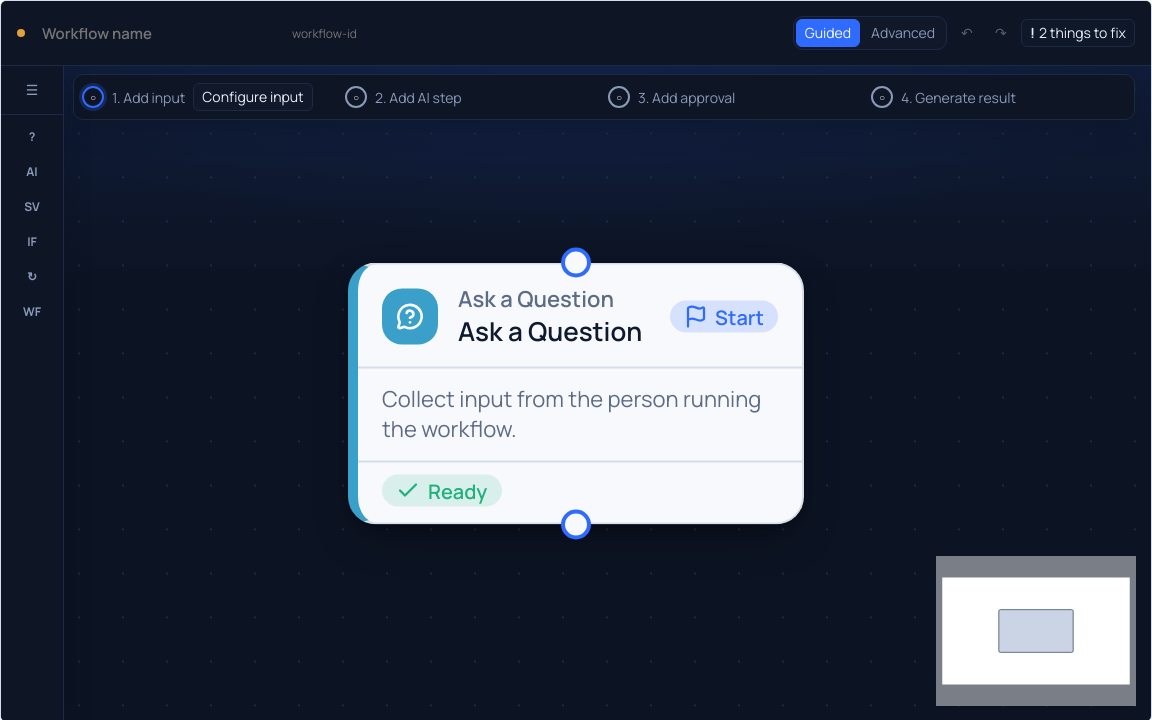
Scenario: ValidationPill popover occlusion fix › does not steal focus back to the toggle button when an outside click already moved it elsewhere
This screenshot has width=1152, height=720.
Click the button with class "wf-validation-pill": (1078, 33) [1021,19,1135,47]
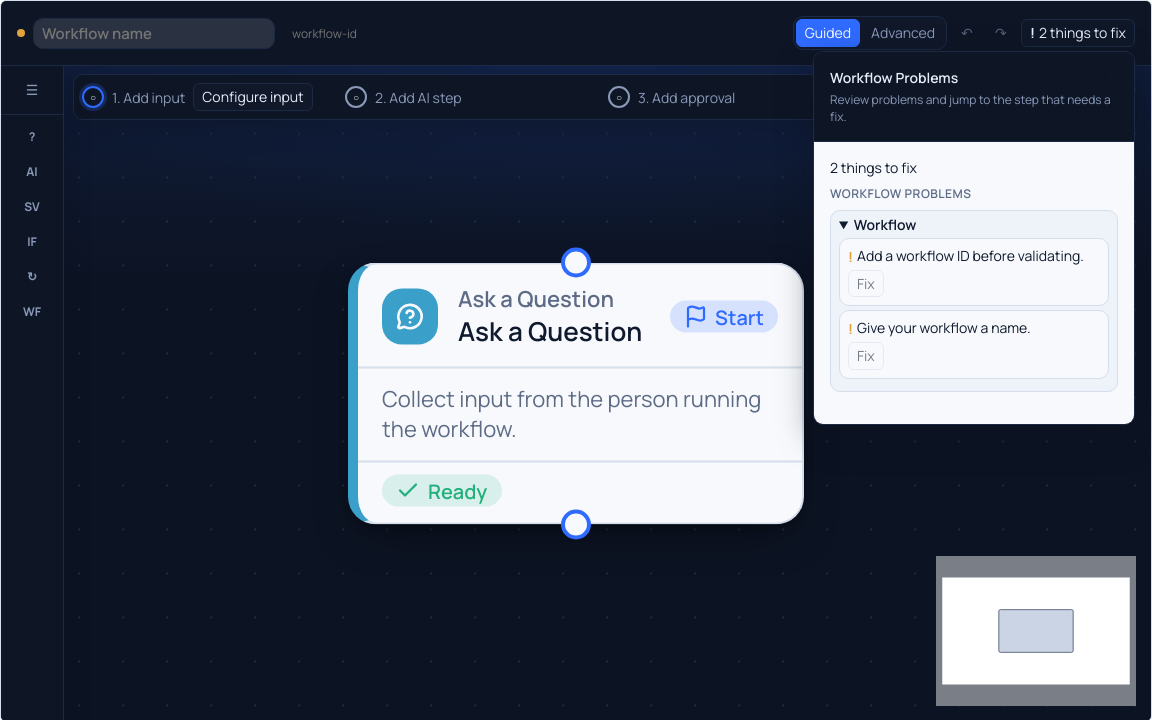
Expected: the dialog "Workflow Problems" is shown, [813,51,1135,425]
Press the mouse on the field labelled "Workflow name": (154, 33) [33,18,275,48]
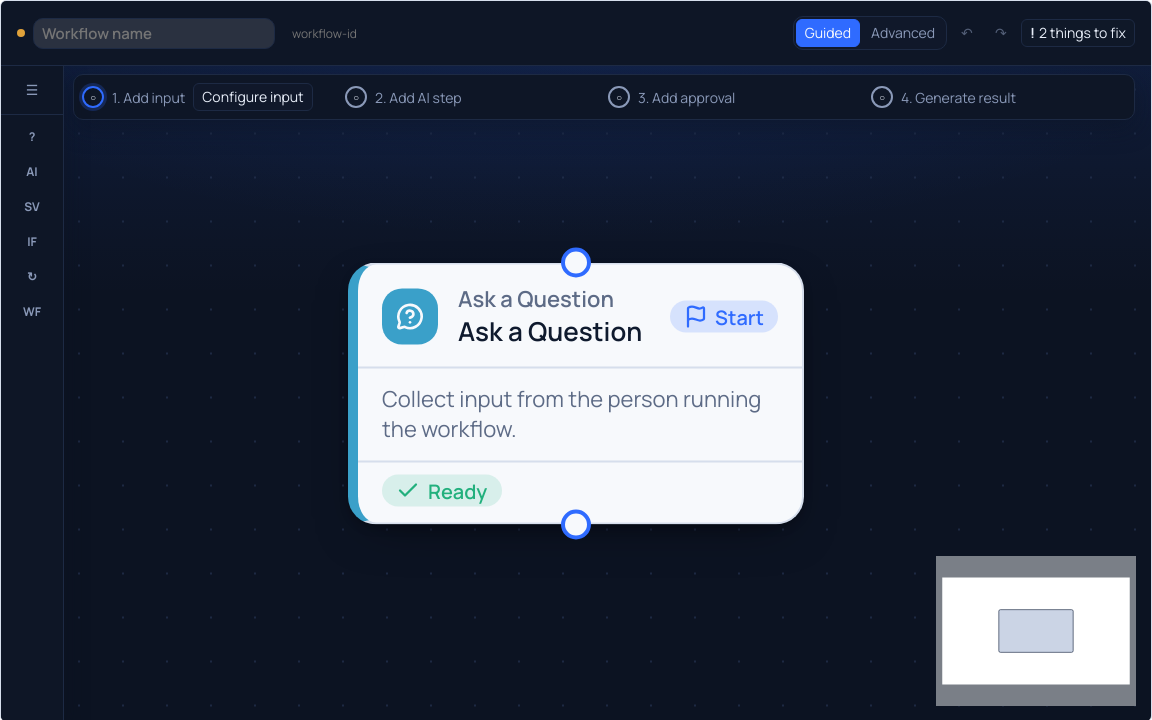
Expected: the heading "Workflow Problems" is gone
